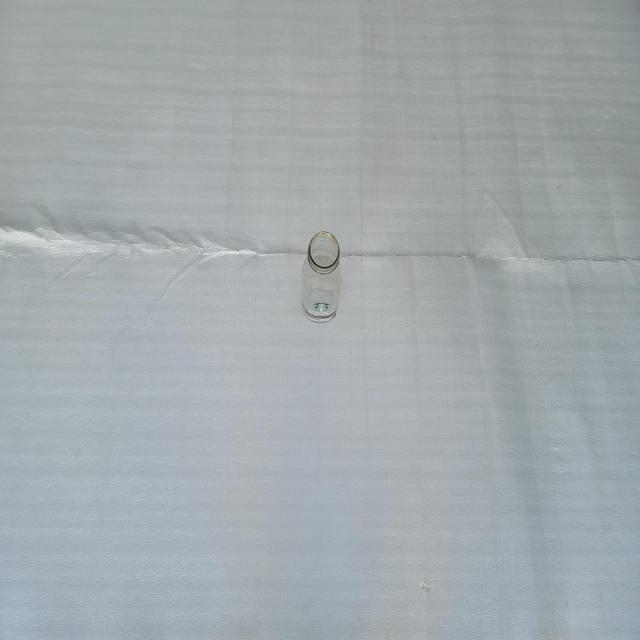glass: (302, 231, 342, 322)
